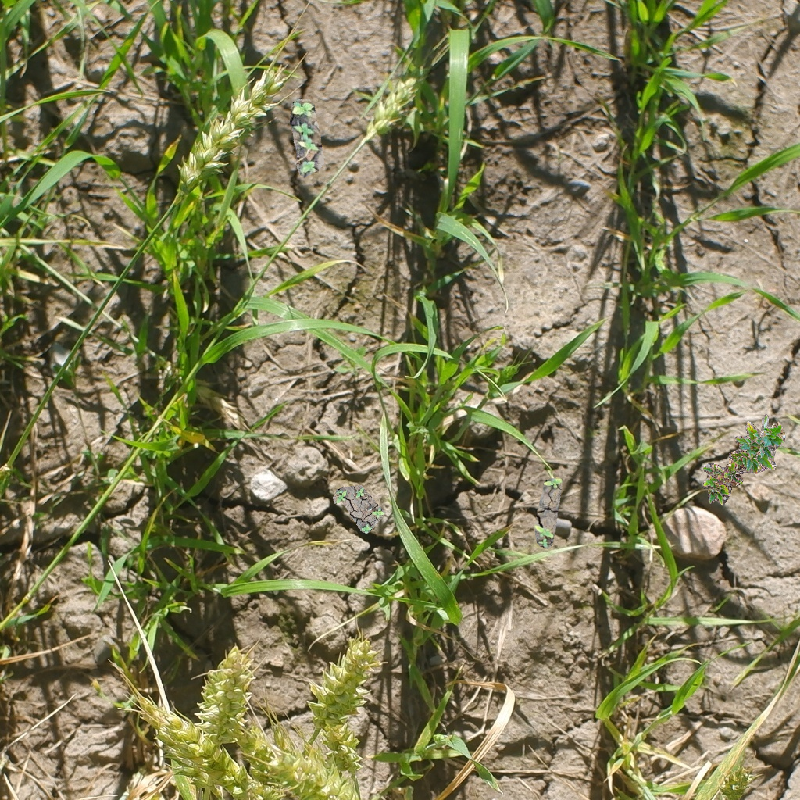spikelet: (176, 62, 290, 185), (156, 709, 250, 798), (314, 638, 378, 723), (197, 646, 253, 731), (269, 749, 356, 799), (365, 74, 420, 136)
weed: (701, 406, 800, 509), (269, 94, 343, 183), (328, 474, 389, 539), (534, 477, 563, 549)
